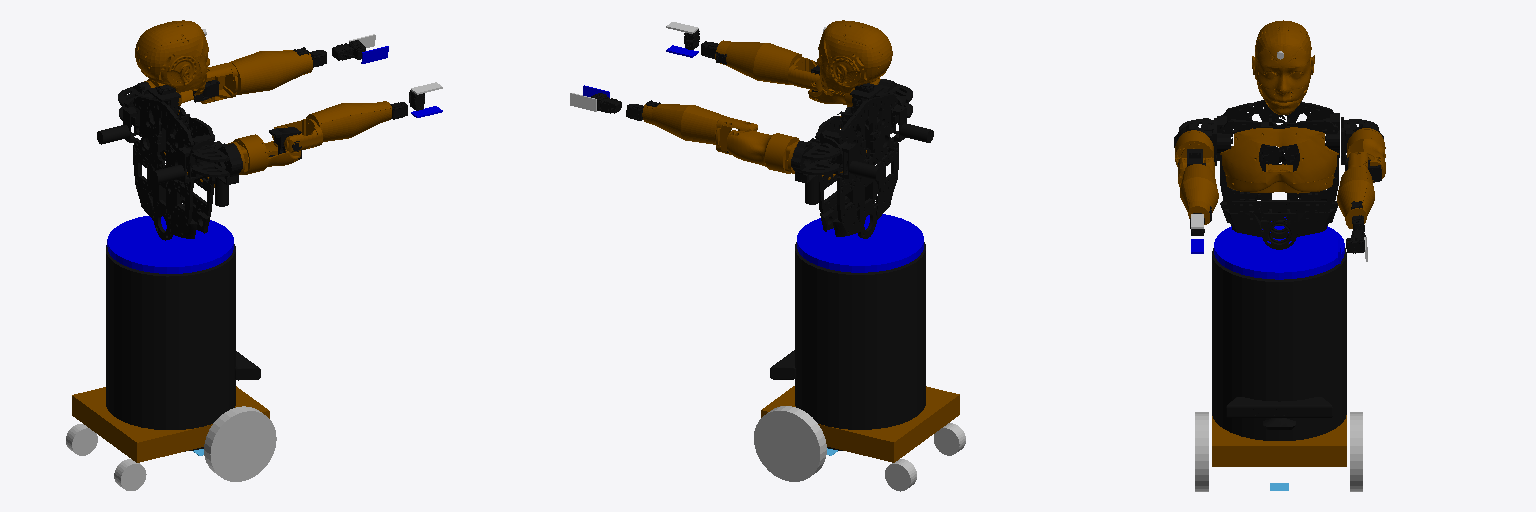
--- What the picture shows (computed from the rendered views, not written in the file) ---
The picture shows the robot from 3 angles, left to right: view 1: azimuth 30°, elevation 25°; view 2: azimuth 150°, elevation 25°; view 3: azimuth 270°, elevation 25°; orthographic projection.
Model robbie with 57 links and 56 joints (18 revolute, 38 fixed), rooted at base_footprint, posed joints at zero except 1 at the middle of their limits (left_arm_rotate_joint = 1.67).
Visible links, largest first — view 1: deck_link, upper_torso, pan_link, base_link, head_link, left_wheel, left_forearm_link, right_forearm_link, right_shoulder_lift, right_shoulder_rotate, left_shoulder_tilt, right_shoulder_tilt (+5 smaller); view 2: deck_link, upper_torso, pan_link, base_link, head_link, right_wheel, right_forearm_link, left_forearm_link, left_shoulder_rotate, left_shoulder_lift, left_shoulder_tilt, right_shoulder_tilt (+7 smaller); view 3: deck_link, upper_torso, upper_chest, pan_link, head_link, base_link, kinect_link, right_forearm_link, left_forearm_link, left_wheel, left_shoulder_rotate, right_wheel (+3 smaller).
Link boxes in pixels (bbox=[...]): deck_link: bbox=[106, 244, 235, 451]; upper_torso: bbox=[133, 96, 214, 240]; pan_link: bbox=[107, 216, 233, 273]; base_link: bbox=[72, 386, 269, 462]; head_link: bbox=[135, 20, 209, 95]; left_wheel: bbox=[204, 406, 276, 481]; left_forearm_link: bbox=[231, 50, 312, 94]; right_forearm_link: bbox=[306, 101, 391, 141]; right_shoulder_lift: bbox=[189, 139, 242, 206]; right_shoulder_rotate: bbox=[227, 134, 300, 174]; left_shoulder_tilt: bbox=[97, 94, 156, 144]; right_shoulder_tilt: bbox=[151, 134, 213, 183]; deck_link: bbox=[795, 242, 925, 450]; upper_torso: bbox=[815, 94, 898, 238]; pan_link: bbox=[797, 214, 923, 272]; base_link: bbox=[761, 386, 959, 462]; head_link: bbox=[817, 20, 892, 95]; right_wheel: bbox=[754, 406, 826, 481]; right_forearm_link: bbox=[715, 40, 802, 84]; left_forearm_link: bbox=[642, 104, 723, 144]; left_shoulder_rotate: bbox=[727, 130, 799, 173]; left_shoulder_lift: bbox=[791, 132, 842, 204]; left_shoulder_tilt: bbox=[820, 130, 882, 180]; right_shoulder_tilt: bbox=[873, 92, 933, 142]; deck_link: bbox=[1212, 248, 1346, 440]; upper_torso: bbox=[1220, 100, 1338, 249]; upper_chest: bbox=[1220, 127, 1338, 193]; pan_link: bbox=[1214, 217, 1344, 279]; head_link: bbox=[1252, 20, 1314, 114]; base_link: bbox=[1212, 415, 1346, 466]; kinect_link: bbox=[1226, 397, 1332, 429]; right_forearm_link: bbox=[1180, 164, 1218, 224]; left_forearm_link: bbox=[1337, 167, 1374, 228]; left_wheel: bbox=[1195, 412, 1208, 491]; left_shoulder_rotate: bbox=[1347, 128, 1385, 182]; right_wheel: bbox=[1350, 412, 1362, 491].
Size in the robot's own frame: 1 by 0.5498 by 1.28 metres.
25 mesh visuals loaded from 15 distinct referenced files (13 binary STL); not drawn: 12 (reference not matched to a file when rendering).

robot.urdf — robbie:
<?xml version="1.0" ?>
<!-- =================================================================================== -->
<!-- |    This document was autogenerated by xacro from rob_inmoov.xacro               | -->
<!-- |    EDITING THIS FILE BY HAND IS NOT RECOMMENDED                                 | -->
<!-- =================================================================================== -->
<!-- XML namespaces -->
<robot name="robbie" xmlns:controller="http://playerstage.sourceforge.net/gazebo/xmlschema/#controller" xmlns:interface="http://playerstage.sourceforge.net/gazebo/xmlschema/#interface" xmlns:sensor="http://playerstage.sourceforge.net/gazebo/xmlschema/#sensor" xmlns:xacro="http://ros.org/wiki/xacro">
  <link name="base_link">
    <visual>
      <origin rpy="0 0 0" xyz="0 0 .135"/>
      <geometry>
        <box size="0.41 0.35 0.06"/>
      </geometry>
      <material name="gold">
        <color rgba="0.5 0.3 0 1.0"/>
      </material>
    </visual>
    <collision>
      <origin rpy="0 0 0" xyz="0 0 .135"/>
      <geometry>
        <box size="0.41 0.35 0.06"/>
      </geometry>
    </collision>
  </link>
  <gazebo reference="base_link">
    <material>Gazebo/FlatBlack</material>
    <selfCollide>false</selfCollide>
    <turnGravityOff>true</turnGravityOff>
  </gazebo>
  <link name="base_footprint">
    <visual>
      <origin rpy="0 0 0" xyz="0 0 0"/>
      <geometry>
        <box size="0.05 0.05 0.001"/>
      </geometry>
      <material name="TransparentGreen"/>
    </visual>
  </link>
  <link name="left_wheel">
    <visual>
      <origin rpy="1.57 0 0" xyz="0 0 0"/>
      <geometry>
        <cylinder length="0.035" radius="0.1025"/>
      </geometry>
      <material name="grey1">
        <color rgba="0.75 0.75 0.75 1.0"/>
      </material>
    </visual>
    <collision>
      <origin rpy="1.57 0 0" xyz="0 0 0"/>
      <geometry>
        <cylinder length="0.035" radius="0.1025"/>
      </geometry>
    </collision>
    <inertial>
      <mass value="0.1"/>
      <inertia ixx="0.001" ixy="0.0" ixz="0.0" iyy="0.001" iyz="0.0" izz="0.001"/>
    </inertial>
  </link>
  <gazebo reference="left_wheel">
    <material>Gazebo/Grey</material>
    <selfCollide>false</selfCollide>
    <turnGravityOff>true</turnGravityOff>
  </gazebo>
  <link name="right_wheel">
    <visual>
      <origin rpy="1.57 0 0" xyz="0 0 0"/>
      <geometry>
        <cylinder length="0.035" radius="0.1025"/>
      </geometry>
      <material name="grey1">
        <color rgba="0.75 0.75 0.75 1.0"/>
      </material>
    </visual>
    <collision>
      <origin rpy="1.57 0 0" xyz="0 0 0"/>
      <geometry>
        <cylinder length="0.035" radius="0.1025"/>
      </geometry>
    </collision>
    <inertial>
      <mass value="0.1"/>
      <inertia ixx="0.001" ixy="0.0" ixz="0.0" iyy="0.001" iyz="0.0" izz="0.001"/>
    </inertial>
  </link>
  <gazebo reference="right_wheel">
    <material>Gazebo/Grey</material>
    <selfCollide>false</selfCollide>
    <turnGravityOff>true</turnGravityOff>
  </gazebo>
  <link name="castor_wheel_l">
    <visual>
      <origin rpy="1.57 0 0" xyz="0 0 0"/>
      <geometry>
        <cylinder length="0.035" radius="0.04"/>
      </geometry>
      <material name="grey1">
        <color rgba="0.75 0.75 0.75 1.0"/>
      </material>
    </visual>
    <collision>
      <origin rpy="1.57 0 0" xyz="0 0 0"/>
      <geometry>
        <cylinder length="0.035" radius="0.04"/>
      </geometry>
    </collision>
    <inertial>
      <mass value="0.1"/>
      <inertia ixx="0.001" ixy="0.0" ixz="0.0" iyy="0.001" iyz="0.0" izz="0.001"/>
    </inertial>
  </link>
  <gazebo reference="castor_wheel_l">
    <material>Gazebo/Grey</material>
    <selfCollide>false</selfCollide>
    <turnGravityOff>true</turnGravityOff>
  </gazebo>
  <link name="castor_wheel_r">
    <visual>
      <origin rpy="1.57 0 0" xyz="0 0 0"/>
      <geometry>
        <cylinder length="0.035" radius="0.04"/>
      </geometry>
      <material name="grey1">
        <color rgba="0.75 0.75 0.75 1.0"/>
      </material>
    </visual>
    <collision>
      <origin rpy="1.57 0 0" xyz="0 0 0"/>
      <geometry>
        <cylinder length="0.035" radius="0.04"/>
      </geometry>
    </collision>
    <inertial>
      <mass value="0.1"/>
      <inertia ixx="0.001" ixy="0.0" ixz="0.0" iyy="0.001" iyz="0.0" izz="0.001"/>
    </inertial>
  </link>
  <gazebo reference="castor_wheel_r">
    <material>Gazebo/Grey</material>
    <selfCollide>false</selfCollide>
    <turnGravityOff>true</turnGravityOff>
  </gazebo>
  <link name="deck_link">
    <visual>
      <origin rpy="0 0 0" xyz="0.1 0 0"/>
      <geometry>
        <cylinder length="0.52" radius="0.175"/>
      </geometry>
      <material name="black">
        <color rgba="0.1 0.1 0.1 1.0"/>
      </material>
    </visual>
    <collision>
      <origin rpy="0 0 0" xyz="0.1 0 0"/>
      <geometry>
        <cylinder length="0.52" radius="0.175"/>
      </geometry>
    </collision>
    <inertial>
      <mass value="0.2"/>
      <inertia ixx="0.001" ixy="0.0" ixz="0.0" iyy="0.001" iyz="0.0" izz="0.001"/>
    </inertial>
  </link>
  <gazebo reference="deck_link">
    <material>Gazebo/grey</material>
    <selfCollide>false</selfCollide>
    <turnGravityOff>true</turnGravityOff>
  </gazebo>
  <link name="pan_link">
    <visual>
      <origin rpy="0 0 0" xyz="0 0 0"/>
      <geometry>
        <cylinder length="0.02" radius="0.17"/>
      </geometry>
      <material name="blue1">
        <color rgba="0 0 0.9 1.0"/>
      </material>
    </visual>
    <collision>
      <origin rpy="0 0 0" xyz="0 0 0"/>
      <geometry>
        <cylinder length="0.02" radius="0.17"/>
      </geometry>
    </collision>
    <inertial>
      <mass value="0.2"/>
      <inertia ixx="0.001" ixy="0.0" ixz="0.0" iyy="0.001" iyz="0.0" izz="0.001"/>
    </inertial>
  </link>
  <gazebo reference="pan_link">
    <material>Gazebo/grey</material>
    <selfCollide>false</selfCollide>
    <turnGravityOff>true</turnGravityOff>
  </gazebo>
  <!-- ##############################   upper torso   ##################333333-->
  <link name="upper_torso">
    <visual>
      <geometry>
        <mesh filename="package://robbie_description/meshes/chest.stl" scale="0.001 0.001 0.001"/>
      </geometry>
      <material name="black">
        <color rgba="0.1 0.1 0.1 1.0"/>
      </material>
      <origin rpy="0 0 -1.57" xyz="0 0 0"/>
    </visual>
  </link>
  <link name="upper_chest">
    <visual>
      <geometry>
        <mesh filename="package://robbie_description/meshes/chest_cover.stl" scale="0.001 0.001 0.001"/>
      </geometry>
      <material name="gold">
        <color rgba="0.5 0.3 0 1.0"/>
      </material>
      <origin rpy="0 0 1.57" xyz="0 0 0"/>
    </visual>
  </link>
  <!-- ##############################   right arm ##################333333-->
  <link name="right_shoulder_tilt">
    <visual>
      <geometry>
        <mesh filename="package://robbie_description/meshes/right_shoulder_tilt_assy.stl" scale="0.001 0.001 0.001"/>
      </geometry>
      <material name="black">
        <color rgba="0.1 0.1 0.1 1.0"/>
      </material>
      <origin rpy="0 0 1.57" xyz="0 -0.05 -0.05"/>
    </visual>
  </link>
  <link name="right_shoulder_lift">
    <visual>
      <geometry>
        <mesh filename="package://robbie_description/meshes/right_shoulder_assy.stl" scale="0.001 0.001 0.001"/>
      </geometry>
      <material name="black">
        <color rgba="0.1 0.1 0.1 1.0"/>
      </material>
      <origin rpy="0 0 1.57" xyz="-0.025 0 0.01"/>
    </visual>
  </link>
  <link name="right_elbow_link">
    <visual>
      <geometry>
        <mesh filename="package://robbie_description/meshes/gearbox.stl" scale="0.001 0.001 0.001"/>
      </geometry>
      <material name="black">
        <color rgba="0.1 0.1 0.1 1.0"/>
      </material>
      <origin rpy="0 1.57 0" xyz="0 0 0"/>
    </visual>
  </link>
  <link name="right_shoulder_rotate">
    <visual>
      <geometry>
        <mesh filename="package://robbie_description/meshes/right_upper_arm.stl" scale="0.001 0.001 0.001"/>
      </geometry>
      <material name="gold">
        <color rgba="0.5 0.3 0 1.0"/>
      </material>
      <origin rpy="0 3.14 0" xyz="0 0 0"/>
    </visual>
  </link>
  <link name="right_elbow">
    <visual>
      <geometry>
        <mesh filename="package://robbie_description/meshes/elbow_pivot.stl" scale="0.001 0.001 0.001"/>
      </geometry>
      <material name="gold">
        <color rgba="0.5 0.3 0 1.0"/>
      </material>
      <origin rpy="3.14 0 0" xyz="0.025 -0.05 0.03"/>
    </visual>
  </link>
  <link name="right_forearm_link">
    <visual>
      <geometry>
        <mesh filename="package://robbie_description/meshes/fore_arm.stl" scale="0.001 0.001 0.001"/>
      </geometry>
      <material name="gold">
        <color rgba="0.5 0.3 0 1.0"/>
      </material>
      <origin rpy="0 -1.57 0" xyz="0 0 0"/>
    </visual>
  </link>
  <!-- wrist_pan_ joint-->
  <link name="wrist_pan_servo">
    <visual>
      <origin rpy="0 0 0" xyz="0 0 0"/>
      <geometry>
        <mesh filename="package://robbie/meshes/ax12_box2.stl" scale="0.001 0.001 0.001"/>
      </geometry>
      <material name="ax12_color">
        <color rgba="0.1 0.1 0.1 1.0"/>
      </material>
    </visual>
    <collision>
      <origin rpy="0 0 0" xyz="0 0 0"/>
      <geometry>
        <!--<box size="0.032 0.038 0.05" />-->
        <mesh filename="package://robbie/meshes/ax12_box2.stl" scale="0.001 0.001 0.001"/>
      </geometry>
    </collision>
    <inertial>
      <mass value="0.055"/>
      <inertia ixx="0.001" ixy="0.0" ixz="0.0" iyy="0.001" iyz="0.0" izz="0.001"/>
    </inertial>
  </link>
  <gazebo reference="wrist_pan_servo">
    <material>Gazebo/FlatBlack</material>
    <selfCollide>false</selfCollide>
    <turnGravityOff>true</turnGravityOff>
  </gazebo>
  <link name="wrist_pan_servo_bracket_f3">
    <visual>
      <origin rpy="1.57 0 0" xyz="0 0.005 0"/>
      <geometry>
        <mesh filename="package://robbie/meshes/F3.stl" scale="0.001 0.001 0.001"/>
      </geometry>
      <material name="grey1">
        <color rgba="0.75 0.75 0.75 1.0"/>
      </material>
      <material name="bracket_color">
        <color rgba="0.9 0.9 0.9 1.0"/>
      </material>
    </visual>
    <collision>
      <origin rpy="1.57 0 0" xyz="0 0.005 0"/>
      <geometry>
        <mesh filename="package://robbie/meshes/F3.stl" scale="0.001 0.001 0.001"/>
      </geometry>
    </collision>
    <inertial>
      <mass value="0.01"/>
      <inertia ixx="0.001" ixy="0.0" ixz="0.0" iyy="0.001" iyz="0.0" izz="0.001"/>
    </inertial>
  </link>
  <gazebo reference="wrist_pan_servo_bracket_f3">
    <material>Gazebo/WhiteEmissive</material>
    <selfCollide>false</selfCollide>
    <turnGravityOff>true</turnGravityOff>
  </gazebo>
  <!-- <xacro:F3_bracket name="wrist_pan_servo_bracket2_f3" xyz="0 0 0" rpy="0 -1.57 0" />-->
  <!-- wrist_tilt joint-->
  <link name="wrist_tilt_servo">
    <visual>
      <origin rpy="-1.57 0 0" xyz="-0.04 0.05 0"/>
      <geometry>
        <mesh filename="package://robbie/meshes/ax12_box2.stl" scale="0.001 0.001 0.001"/>
      </geometry>
      <material name="ax12_color">
        <color rgba="0.1 0.1 0.1 1.0"/>
      </material>
    </visual>
    <collision>
      <origin rpy="-1.57 0 0" xyz="-0.04 0.05 0"/>
      <geometry>
        <!--<box size="0.032 0.038 0.05" />-->
        <mesh filename="package://robbie/meshes/ax12_box2.stl" scale="0.001 0.001 0.001"/>
      </geometry>
    </collision>
    <inertial>
      <mass value="0.055"/>
      <inertia ixx="0.001" ixy="0.0" ixz="0.0" iyy="0.001" iyz="0.0" izz="0.001"/>
    </inertial>
  </link>
  <gazebo reference="wrist_tilt_servo">
    <material>Gazebo/FlatBlack</material>
    <selfCollide>false</selfCollide>
    <turnGravityOff>true</turnGravityOff>
  </gazebo>
  <link name="wrist_tilt_bracket_f2">
    <visual>
      <origin rpy="0 1.57 0" xyz="0 0 0"/>
      <geometry>
        <mesh filename="package://robbie/meshes/F2.stl" scale="0.001 0.001 0.001"/>
      </geometry>
      <material name="bracket_color">
        <color rgba="0.9 0.9 0.9 1.0"/>
      </material>
    </visual>
    <collision>
      <origin rpy="0 1.57 0" xyz="0 0 0"/>
      <geometry>
        <mesh filename="package://robbie/meshes/F2.stl" scale="0.001 0.001 0.001"/>
      </geometry>
    </collision>
    <inertial>
      <mass value="0.02"/>
      <inertia ixx="0.001" ixy="0.0" ixz="0.0" iyy="0.001" iyz="0.0" izz="0.001"/>
    </inertial>
  </link>
  <gazebo reference="wrist_tilt_bracket_f2">
    <material>Gazebo/WhiteEmissive</material>
    <selfCollide>false</selfCollide>
    <turnGravityOff>true</turnGravityOff>
  </gazebo>
  <!--here-->
  <link name="gripper_bracket_f3">
    <visual>
      <origin rpy="1.57 1.57 0" xyz="0 0 0"/>
      <geometry>
        <mesh filename="package://robbie/meshes/F3.stl" scale="0.001 0.001 0.001"/>
      </geometry>
      <material name="grey1">
        <color rgba="0.75 0.75 0.75 1.0"/>
      </material>
      <material name="bracket_color">
        <color rgba="0.9 0.9 0.9 1.0"/>
      </material>
    </visual>
    <collision>
      <origin rpy="1.57 1.57 0" xyz="0 0 0"/>
      <geometry>
        <mesh filename="package://robbie/meshes/F3.stl" scale="0.001 0.001 0.001"/>
      </geometry>
    </collision>
    <inertial>
      <mass value="0.01"/>
      <inertia ixx="0.001" ixy="0.0" ixz="0.0" iyy="0.001" iyz="0.0" izz="0.001"/>
    </inertial>
  </link>
  <gazebo reference="gripper_bracket_f3">
    <material>Gazebo/WhiteEmissive</material>
    <selfCollide>false</selfCollide>
    <turnGravityOff>true</turnGravityOff>
  </gazebo>
  <!-- Gripper_joint-->
  <link name="gripper_servo">
    <visual>
      <origin rpy="1.57 0 0" xyz="0 0 0"/>
      <geometry>
        <mesh filename="package://robbie/meshes/ax12_box2.stl" scale="0.001 0.001 0.001"/>
      </geometry>
      <material name="ax12_color">
        <color rgba="0.1 0.1 0.1 1.0"/>
      </material>
    </visual>
    <collision>
      <origin rpy="1.57 0 0" xyz="0 0 0"/>
      <geometry>
        <!--<box size="0.032 0.038 0.05" />-->
        <mesh filename="package://robbie/meshes/ax12_box2.stl" scale="0.001 0.001 0.001"/>
      </geometry>
    </collision>
    <inertial>
      <mass value="0.055"/>
      <inertia ixx="0.001" ixy="0.0" ixz="0.0" iyy="0.001" iyz="0.0" izz="0.001"/>
    </inertial>
  </link>
  <gazebo reference="gripper_servo">
    <material>Gazebo/FlatBlack</material>
    <selfCollide>false</selfCollide>
    <turnGravityOff>true</turnGravityOff>
  </gazebo>
  <link name="gripper_bracket_f2">
    <visual>
      <origin rpy="0 0 1.57" xyz="0 0 0"/>
      <geometry>
        <mesh filename="package://robbie/meshes/F2.stl" scale="0.001 0.001 0.001"/>
      </geometry>
      <material name="bracket_color">
        <color rgba="0.9 0.9 0.9 1.0"/>
      </material>
    </visual>
    <collision>
      <origin rpy="0 0 1.57" xyz="0 0 0"/>
      <geometry>
        <mesh filename="package://robbie/meshes/F2.stl" scale="0.001 0.001 0.001"/>
      </geometry>
    </collision>
    <inertial>
      <mass value="0.02"/>
      <inertia ixx="0.001" ixy="0.0" ixz="0.0" iyy="0.001" iyz="0.0" izz="0.001"/>
    </inertial>
  </link>
  <gazebo reference="gripper_bracket_f2">
    <material>Gazebo/WhiteEmissive</material>
    <selfCollide>false</selfCollide>
    <turnGravityOff>true</turnGravityOff>
  </gazebo>
  <link name="right_finger_link">
    <visual>
      <origin rpy="1.57 0 1.57" xyz="0 0 0"/>
      <geometry>
        <box size="-0.08 0.005 0.035"/>
      </geometry>
      <material name="blue1">
        <color rgba="0 0 0.9 1.0"/>
      </material>
    </visual>
    <collision>
      <origin rpy="1.57 0 1.57" xyz="0 0 0"/>
      <geometry>
        <box size="-0.08 0.005 0.035"/>
      </geometry>
    </collision>
  </link>
  <gazebo reference="right_finger_link">
    <material>Gazebo/FlatBlack</material>
    <selfCollide>false</selfCollide>
    <turnGravityOff>true</turnGravityOff>
  </gazebo>
  <link name="left_finger_link">
    <visual>
      <origin rpy="1.57 0 1.57" xyz="0 0 0"/>
      <geometry>
        <box size="0.08 0.005 0.035"/>
      </geometry>
      <material name="grey3">
        <color rgba="0.8 0.8 0.8 1.0"/>
      </material>
    </visual>
    <collision>
      <origin rpy="1.57 0 1.57" xyz="0 0 0"/>
      <geometry>
        <box size="0.08 0.005 0.035"/>
      </geometry>
    </collision>
  </link>
  <gazebo reference="left_finger_link">
    <material>Gazebo/FlatBlack</material>
    <selfCollide>false</selfCollide>
    <turnGravityOff>true</turnGravityOff>
  </gazebo>
  <!-- ##############################   left arm ##################333333-->
  <link name="left_shoulder_tilt">
    <visual>
      <geometry>
        <mesh filename="package://robbie_description/meshes/left_shoulder_tilt_assy.stl" scale="0.001 0.001 0.001"/>
      </geometry>
      <material name="black">
        <color rgba="0.1 0.1 0.1 1.0"/>
      </material>
      <origin rpy="0 0 1.57" xyz="0 0.0 -0.0"/>
    </visual>
  </link>
  <link name="left_shoulder_lift">
    <visual>
      <geometry>
        <mesh filename="package://robbie_description/meshes/left_shoulder_assy.stl" scale="0.001 0.001 0.001"/>
      </geometry>
      <material name="black">
        <color rgba="0.1 0.1 0.1 1.0"/>
      </material>
      <origin rpy="0 0 1.57" xyz="0 0 0"/>
    </visual>
  </link>
  <link name="left_shoulder_rotate">
    <visual>
      <geometry>
        <mesh filename="package://robbie_description/meshes/right_upper_arm.stl" scale="0.001 0.001 0.001"/>
      </geometry>
      <material name="gold">
        <color rgba="0.5 0.3 0 1.0"/>
      </material>
      <origin rpy="0 3.14 0" xyz="0 0 0"/>
    </visual>
  </link>
  <link name="left_elbow_link">
    <visual>
      <geometry>
        <mesh filename="package://robbie_description/meshes/gearbox.stl" scale="0.001 0.001 0.001"/>
      </geometry>
      <material name="black">
        <color rgba="0.1 0.1 0.1 1.0"/>
      </material>
      <origin rpy="0 1.57 0" xyz="0 0 0"/>
    </visual>
  </link>
  <link name="left_elbow">
    <visual>
      <geometry>
        <mesh filename="package://robbie_description/meshes/elbow_pivot.stl" scale="0.001 0.001 0.001"/>
      </geometry>
      <material name="gold">
        <color rgba="0.5 0.3 0 1.0"/>
      </material>
      <origin rpy="3.14 0 0" xyz="0.025 -0.05 0.03"/>
    </visual>
  </link>
  <link name="left_forearm_link">
    <visual>
      <geometry>
        <mesh filename="package://robbie_description/meshes/fore_arm.stl" scale="0.001 0.001 0.001"/>
      </geometry>
      <material name="gold">
        <color rgba="0.5 0.3 0 1.0"/>
      </material>
      <origin rpy="0 -1.57 0" xyz="0 0 0"/>
    </visual>
  </link>
  <!-- left_wrist_pan_ joint-->
  <link name="left_wrist_pan_servo">
    <visual>
      <origin rpy="0 0 0" xyz="0 0 0"/>
      <geometry>
        <mesh filename="package://robbie/meshes/ax12_box2.stl" scale="0.001 0.001 0.001"/>
      </geometry>
      <material name="ax12_color">
        <color rgba="0.1 0.1 0.1 1.0"/>
      </material>
    </visual>
    <collision>
      <origin rpy="0 0 0" xyz="0 0 0"/>
      <geometry>
        <!--<box size="0.032 0.038 0.05" />-->
        <mesh filename="package://robbie/meshes/ax12_box2.stl" scale="0.001 0.001 0.001"/>
      </geometry>
    </collision>
    <inertial>
      <mass value="0.055"/>
      <inertia ixx="0.001" ixy="0.0" ixz="0.0" iyy="0.001" iyz="0.0" izz="0.001"/>
    </inertial>
  </link>
  <gazebo reference="left_wrist_pan_servo">
    <material>Gazebo/FlatBlack</material>
    <selfCollide>false</selfCollide>
    <turnGravityOff>true</turnGravityOff>
  </gazebo>
  <link name="left_wrist_pan_servo_bracket_f3">
    <visual>
      <origin rpy="1.57 0 0" xyz="0 0.005 0"/>
      <geometry>
        <mesh filename="package://robbie/meshes/F3.stl" scale="0.001 0.001 0.001"/>
      </geometry>
      <material name="grey1">
        <color rgba="0.75 0.75 0.75 1.0"/>
      </material>
      <material name="bracket_color">
        <color rgba="0.9 0.9 0.9 1.0"/>
      </material>
    </visual>
    <collision>
      <origin rpy="1.57 0 0" xyz="0 0.005 0"/>
      <geometry>
        <mesh filename="package://robbie/meshes/F3.stl" scale="0.001 0.001 0.001"/>
      </geometry>
    </collision>
    <inertial>
      <mass value="0.01"/>
      <inertia ixx="0.001" ixy="0.0" ixz="0.0" iyy="0.001" iyz="0.0" izz="0.001"/>
    </inertial>
  </link>
  <gazebo reference="left_wrist_pan_servo_bracket_f3">
    <material>Gazebo/WhiteEmissive</material>
    <selfCollide>false</selfCollide>
    <turnGravityOff>true</turnGravityOff>
  </gazebo>
  <!-- <xacro:F3_bracket name="left_wrist_pan_servo_bracket2_f3" xyz="0 0 0" rpy="0 -1.57 0" />-->
  <!-- left_wrist_yaw joint-->
  <link name="left_wrist_yaw_servo">
    <visual>
      <origin rpy="-1.57 0 0" xyz="-0.04 0.05 0"/>
      <geometry>
        <mesh filename="package://robbie/meshes/ax12_box2.stl" scale="0.001 0.001 0.001"/>
      </geometry>
      <material name="ax12_color">
        <color rgba="0.1 0.1 0.1 1.0"/>
      </material>
    </visual>
    <collision>
      <origin rpy="-1.57 0 0" xyz="-0.04 0.05 0"/>
      <geometry>
        <!--<box size="0.032 0.038 0.05" />-->
        <mesh filename="package://robbie/meshes/ax12_box2.stl" scale="0.001 0.001 0.001"/>
      </geometry>
    </collision>
    <inertial>
      <mass value="0.055"/>
      <inertia ixx="0.001" ixy="0.0" ixz="0.0" iyy="0.001" iyz="0.0" izz="0.001"/>
    </inertial>
  </link>
  <gazebo reference="left_wrist_yaw_servo">
    <material>Gazebo/FlatBlack</material>
    <selfCollide>false</selfCollide>
    <turnGravityOff>true</turnGravityOff>
  </gazebo>
  <link name="left_wrist_yaw_bracket_f2">
    <visual>
      <origin rpy="-1.57 0 0" xyz="0 0 0"/>
      <geometry>
        <mesh filename="package://robbie/meshes/F2.stl" scale="0.001 0.001 0.001"/>
      </geometry>
      <material name="bracket_color">
        <color rgba="0.9 0.9 0.9 1.0"/>
      </material>
    </visual>
    <collision>
      <origin rpy="-1.57 0 0" xyz="0 0 0"/>
      <geometry>
        <mesh filename="package://robbie/meshes/F2.stl" scale="0.001 0.001 0.001"/>
      </geometry>
    </collision>
    <inertial>
      <mass value="0.02"/>
      <inertia ixx="0.001" ixy="0.0" ixz="0.0" iyy="0.001" iyz="0.0" izz="0.001"/>
    </inertial>
  </link>
  <gazebo reference="left_wrist_yaw_bracket_f2">
    <material>Gazebo/WhiteEmissive</material>
    <selfCollide>false</selfCollide>
    <turnGravityOff>true</turnGravityOff>
  </gazebo>
  <!-- left_wrist_tilt joint-->
  <link name="left_wrist_tilt_servo">
    <visual>
      <origin rpy="1.57 1.57 0" xyz="0 0 0"/>
      <geometry>
        <mesh filename="package://robbie/meshes/ax12_box2.stl" scale="0.001 0.001 0.001"/>
      </geometry>
      <material name="ax12_color">
        <color rgba="0.1 0.1 0.1 1.0"/>
      </material>
    </visual>
    <collision>
      <origin rpy="1.57 1.57 0" xyz="0 0 0"/>
      <geometry>
        <!--<box size="0.032 0.038 0.05" />-->
        <mesh filename="package://robbie/meshes/ax12_box2.stl" scale="0.001 0.001 0.001"/>
      </geometry>
    </collision>
    <inertial>
      <mass value="0.055"/>
      <inertia ixx="0.001" ixy="0.0" ixz="0.0" iyy="0.001" iyz="0.0" izz="0.001"/>
    </inertial>
  </link>
  <gazebo reference="left_wrist_tilt_servo">
    <material>Gazebo/FlatBlack</material>
    <selfCollide>false</selfCollide>
    <turnGravityOff>true</turnGravityOff>
  </gazebo>
  <link name="left_wrist_tilt_bracket_f2">
    <visual>
      <origin rpy="1.57 1.57 0" xyz="0 0 0"/>
      <geometry>
        <mesh filename="package://robbie/meshes/F2.stl" scale="0.001 0.001 0.001"/>
      </geometry>
      <material name="bracket_color">
        <color rgba="0.9 0.9 0.9 1.0"/>
      </material>
    </visual>
    <collision>
      <origin rpy="1.57 1.57 0" xyz="0 0 0"/>
      <geometry>
        <mesh filename="package://robbie/meshes/F2.stl" scale="0.001 0.001 0.001"/>
      </geometry>
    </collision>
    <inertial>
      <mass value="0.02"/>
      <inertia ixx="0.001" ixy="0.0" ixz="0.0" iyy="0.001" iyz="0.0" izz="0.001"/>
    </inertial>
  </link>
  <gazebo reference="left_wrist_tilt_bracket_f2">
    <material>Gazebo/WhiteEmissive</material>
    <selfCollide>false</selfCollide>
    <turnGravityOff>true</turnGravityOff>
  </gazebo>
  <link name="left_gripper_bracket_f3">
    <visual>
      <origin rpy="1.57 1.57 0" xyz="0 0 0"/>
      <geometry>
        <mesh filename="package://robbie/meshes/F3.stl" scale="0.001 0.001 0.001"/>
      </geometry>
      <material name="grey1">
        <color rgba="0.75 0.75 0.75 1.0"/>
      </material>
      <material name="bracket_color">
        <color rgba="0.9 0.9 0.9 1.0"/>
      </material>
    </visual>
    <collision>
      <origin rpy="1.57 1.57 0" xyz="0 0 0"/>
      <geometry>
        <mesh filename="package://robbie/meshes/F3.stl" scale="0.001 0.001 0.001"/>
      </geometry>
    </collision>
    <inertial>
      <mass value="0.01"/>
      <inertia ixx="0.001" ixy="0.0" ixz="0.0" iyy="0.001" iyz="0.0" izz="0.001"/>
    </inertial>
  </link>
  <gazebo reference="left_gripper_bracket_f3">
    <material>Gazebo/WhiteEmissive</material>
    <selfCollide>false</selfCollide>
    <turnGravityOff>true</turnGravityOff>
  </gazebo>
  <!-- left_Gripper_joint-->
  <link name="left_gripper_servo">
    <visual>
      <origin rpy="0 0 -1.57" xyz="0 0 0"/>
      <geometry>
        <mesh filename="package://robbie/meshes/ax12_box2.stl" scale="0.001 0.001 0.001"/>
      </geometry>
      <material name="ax12_color">
        <color rgba="0.1 0.1 0.1 1.0"/>
      </material>
    </visual>
    <collision>
      <origin rpy="0 0 -1.57" xyz="0 0 0"/>
      <geometry>
        <!--<box size="0.032 0.038 0.05" />-->
        <mesh filename="package://robbie/meshes/ax12_box2.stl" scale="0.001 0.001 0.001"/>
      </geometry>
    </collision>
    <inertial>
      <mass value="0.055"/>
      <inertia ixx="0.001" ixy="0.0" ixz="0.0" iyy="0.001" iyz="0.0" izz="0.001"/>
    </inertial>
  </link>
  <gazebo reference="left_gripper_servo">
    <material>Gazebo/FlatBlack</material>
    <selfCollide>false</selfCollide>
    <turnGravityOff>true</turnGravityOff>
  </gazebo>
  <link name="left_gripper_bracket_f2">
    <visual>
      <origin rpy="0 0 1.57" xyz="0 0 0"/>
      <geometry>
        <mesh filename="package://robbie/meshes/F2.stl" scale="0.001 0.001 0.001"/>
      </geometry>
      <material name="bracket_color">
        <color rgba="0.9 0.9 0.9 1.0"/>
      </material>
    </visual>
    <collision>
      <origin rpy="0 0 1.57" xyz="0 0 0"/>
      <geometry>
        <mesh filename="package://robbie/meshes/F2.stl" scale="0.001 0.001 0.001"/>
      </geometry>
    </collision>
    <inertial>
      <mass value="0.02"/>
      <inertia ixx="0.001" ixy="0.0" ixz="0.0" iyy="0.001" iyz="0.0" izz="0.001"/>
    </inertial>
  </link>
  <gazebo reference="left_gripper_bracket_f2">
    <material>Gazebo/WhiteEmissive</material>
    <selfCollide>false</selfCollide>
    <turnGravityOff>true</turnGravityOff>
  </gazebo>
  <link name="left_right_finger_link">
    <visual>
      <origin rpy="1.57 0 1.57" xyz="0 0 0"/>
      <geometry>
        <box size="-0.08 0.005 0.035"/>
      </geometry>
      <material name="blue1">
        <color rgba="0 0 0.9 1.0"/>
      </material>
    </visual>
    <collision>
      <origin rpy="1.57 0 1.57" xyz="0 0 0"/>
      <geometry>
        <box size="-0.08 0.005 0.035"/>
      </geometry>
    </collision>
  </link>
  <gazebo reference="left_right_finger_link">
    <material>Gazebo/FlatBlack</material>
    <selfCollide>false</selfCollide>
    <turnGravityOff>true</turnGravityOff>
  </gazebo>
  <link name="left_left_finger_link">
    <visual>
      <origin rpy="1.57 0 1.57" xyz="0 0 0"/>
      <geometry>
        <box size="0.08 0.005 0.035"/>
      </geometry>
      <material name="grey3">
        <color rgba="0.8 0.8 0.8 1.0"/>
      </material>
    </visual>
    <collision>
      <origin rpy="1.57 0 1.57" xyz="0 0 0"/>
      <geometry>
        <box size="0.08 0.005 0.035"/>
      </geometry>
    </collision>
  </link>
  <gazebo reference="left_left_finger_link">
    <material>Gazebo/FlatBlack</material>
    <selfCollide>false</selfCollide>
    <turnGravityOff>true</turnGravityOff>
  </gazebo>
  <!-- head details-->
  <link name="head_tilt_bracket">
    <visual>
      <origin rpy="0 3.1415 0" xyz="0 0 0"/>
      <geometry>
        <mesh filename="package://robbie/meshes/F2.stl" scale="0.001 0.001 0.001"/>
      </geometry>
      <material name="bracket_color">
        <color rgba="0.9 0.9 0.9 1.0"/>
      </material>
    </visual>
    <collision>
      <origin rpy="0 3.1415 0" xyz="0 0 0"/>
      <geometry>
        <mesh filename="package://robbie/meshes/F2.stl" scale="0.001 0.001 0.001"/>
      </geometry>
    </collision>
    <inertial>
      <mass value="0.02"/>
      <inertia ixx="0.001" ixy="0.0" ixz="0.0" iyy="0.001" iyz="0.0" izz="0.001"/>
    </inertial>
  </link>
  <gazebo reference="head_tilt_bracket">
    <material>Gazebo/WhiteEmissive</material>
    <selfCollide>false</selfCollide>
    <turnGravityOff>true</turnGravityOff>
  </gazebo>
  <link name="head_tilt_link">
    <visual>
      <origin rpy="3.1415 0 0" xyz="0 0 0"/>
      <geometry>
        <mesh filename="package://robbie/meshes/ax12_box2.stl" scale="0.001 0.001 0.001"/>
      </geometry>
      <material name="ax12_color">
        <color rgba="0.1 0.1 0.1 1.0"/>
      </material>
    </visual>
    <collision>
      <origin rpy="3.1415 0 0" xyz="0 0 0"/>
      <geometry>
        <!--<box size="0.032 0.038 0.05" />-->
        <mesh filename="package://robbie/meshes/ax12_box2.stl" scale="0.001 0.001 0.001"/>
      </geometry>
    </collision>
    <inertial>
      <mass value="0.055"/>
      <inertia ixx="0.001" ixy="0.0" ixz="0.0" iyy="0.001" iyz="0.0" izz="0.001"/>
    </inertial>
  </link>
  <gazebo reference="head_tilt_link">
    <material>Gazebo/FlatBlack</material>
    <selfCollide>false</selfCollide>
    <turnGravityOff>true</turnGravityOff>
  </gazebo>
  <link name="head_pan_bracket">
    <visual>
      <origin rpy="0 0 0" xyz="0 0 0"/>
      <geometry>
        <mesh filename="package://robbie/meshes/F3.stl" scale="0.001 0.001 0.001"/>
      </geometry>
      <material name="grey1">
        <color rgba="0.75 0.75 0.75 1.0"/>
      </material>
      <material name="bracket_color">
        <color rgba="0.9 0.9 0.9 1.0"/>
      </material>
    </visual>
    <collision>
      <origin rpy="0 0 0" xyz="0 0 0"/>
      <geometry>
        <mesh filename="package://robbie/meshes/F3.stl" scale="0.001 0.001 0.001"/>
      </geometry>
    </collision>
    <inertial>
      <mass value="0.01"/>
      <inertia ixx="0.001" ixy="0.0" ixz="0.0" iyy="0.001" iyz="0.0" izz="0.001"/>
    </inertial>
  </link>
  <gazebo reference="head_pan_bracket">
    <material>Gazebo/WhiteEmissive</material>
    <selfCollide>false</selfCollide>
    <turnGravityOff>true</turnGravityOff>
  </gazebo>
  <link name="head_pan_link">
    <visual>
      <origin rpy=" 1.57 0 1.57" xyz="0 0 0"/>
      <geometry>
        <mesh filename="package://robbie/meshes/ax12_box2.stl" scale="0.001 0.001 0.001"/>
      </geometry>
      <material name="ax12_color">
        <color rgba="0.1 0.1 0.1 1.0"/>
      </material>
    </visual>
    <collision>
      <origin rpy=" 1.57 0 1.57" xyz="0 0 0"/>
      <geometry>
        <!--<box size="0.032 0.038 0.05" />-->
        <mesh filename="package://robbie/meshes/ax12_box2.stl" scale="0.001 0.001 0.001"/>
      </geometry>
    </collision>
    <inertial>
      <mass value="0.055"/>
      <inertia ixx="0.001" ixy="0.0" ixz="0.0" iyy="0.001" iyz="0.0" izz="0.001"/>
    </inertial>
  </link>
  <gazebo reference="head_pan_link">
    <material>Gazebo/FlatBlack</material>
    <selfCollide>false</selfCollide>
    <turnGravityOff>true</turnGravityOff>
  </gazebo>
  <link name="neck_link">
    <visual>
      <origin rpy="1.57 0 -1.570" xyz="0 0 0"/>
      <geometry>
        <mesh filename="package://robbie/meshes/F3.stl" scale="0.001 0.001 0.001"/>
      </geometry>
      <material name="grey1">
        <color rgba="0.75 0.75 0.75 1.0"/>
      </material>
      <material name="bracket_color">
        <color rgba="0.9 0.9 0.9 1.0"/>
      </material>
    </visual>
    <collision>
      <origin rpy="1.57 0 -1.570" xyz="0 0 0"/>
      <geometry>
        <mesh filename="package://robbie/meshes/F3.stl" scale="0.001 0.001 0.001"/>
      </geometry>
    </collision>
    <inertial>
      <mass value="0.01"/>
      <inertia ixx="0.001" ixy="0.0" ixz="0.0" iyy="0.001" iyz="0.0" izz="0.001"/>
    </inertial>
  </link>
  <gazebo reference="neck_link">
    <material>Gazebo/WhiteEmissive</material>
    <selfCollide>false</selfCollide>
    <turnGravityOff>true</turnGravityOff>
  </gazebo>
  <link name="head_base_link">
    <visual>
      <origin rpy="0 0 0" xyz="0 0 0"/>
      <geometry>
        <box size="0.06 0.08 0.005"/>
      </geometry>
      <material name="black">
        <color rgba="0.1 0.1 0.1 1.0"/>
      </material>
    </visual>
    <collision>
      <origin rpy="0 0 0" xyz="0 0 0"/>
      <geometry>
        <box size="0.06 0.08 0.005"/>
      </geometry>
    </collision>
  </link>
  <gazebo reference="head_base_link">
    <material>Gazebo/FlatBlack</material>
    <selfCollide>false</selfCollide>
    <turnGravityOff>true</turnGravityOff>
  </gazebo>
  <link name="head_link">
    <visual>
      <geometry>
        <mesh filename="package://robbie_description/meshes/head.stl" scale="0.001 0.001 0.001"/>
      </geometry>
      <material name="gold">
        <color rgba="0.5 0.3 0 1.0"/>
      </material>
      <origin rpy="1.57 0 1.57" xyz="0 0 0"/>
    </visual>
  </link>
  <link name="head_link_fake">
    <inertial>
      <mass value="0.0001"/>
      <origin xyz="0 0 0"/>
      <inertia ixx="0.0001" ixy="0.0" ixz="0.0" iyy="0.0001" iyz="0.0" izz="0.0001"/>
    </inertial>
  </link>
  <link name="kinect_link">
    <inertial>
      <mass value="1.0"/>
      <origin xyz="0 0 0"/>
      <inertia ixx="1.0" ixy="0.0" ixz="0.0" iyy="1.0" iyz="0.0" izz="1.0"/>
    </inertial>
    <visual>
      <origin rpy="0 0 0" xyz=" 0 0 0 "/>
      <geometry>
        <mesh filename="package://robbie_description/meshes/kinect.stl" scale="0.001 0.001 0.001"/>
      </geometry>
      <material name="ax12_color">
        <color rgba="0.1 0.1 0.1 1.0"/>
      </material>
    </visual>
    <collision>
      <origin rpy="0 0 0" xyz="0 0 0"/>
      <geometry>
        <mesh filename="package://robbie_description/meshes/kinect.stl" scale="0.001 0.001 0.001"/>
      </geometry>
    </collision>
  </link>
  <link name="camera_link">
    <visual>
      <origin rpy="0 1.57 0" xyz="0 0 0"/>
      <geometry>
        <cylinder length="0.035" radius="0.01"/>
      </geometry>
      <material name="grey1">
        <color rgba="0.75 0.75 0.75 1.0"/>
      </material>
    </visual>
    <collision>
      <origin rpy="0 1.57 0" xyz="0 0 0"/>
      <geometry>
        <cylinder length="0.035" radius="0.01"/>
      </geometry>
    </collision>
    <inertial>
      <mass value="0.1"/>
      <inertia ixx="0.001" ixy="0.0" ixz="0.0" iyy="0.001" iyz="0.0" izz="0.001"/>
    </inertial>
  </link>
  <gazebo reference="camera_link">
    <material>Gazebo/Grey</material>
    <selfCollide>false</selfCollide>
    <turnGravityOff>true</turnGravityOff>
  </gazebo>
  <!-- virtal joints-->
  <link name="right_gripper_link">
    <visual>
      <origin rpy="0 0 0" xyz="0.05 0 0"/>
      <geometry>
        <box size="0.001 0.001 0.001"/>
      </geometry>
    </visual>
    <collision>
      <origin rpy="0 0 0" xyz="0.05 0 0"/>
      <geometry>
        <box size="0.001 0.001 0.001"/>
      </geometry>
    </collision>
  </link>
  <link name="left_gripper_link">
    <visual>
      <origin rpy="0 0 0" xyz="-0.05 0 0"/>
      <geometry>
        <box size="0.001 0.001 0.001"/>
      </geometry>
    </visual>
    <collision>
      <origin rpy="0 0 0" xyz="-0.05 0 0"/>
      <geometry>
        <box size="0.001 0.001 0.001"/>
      </geometry>
    </collision>
  </link>
  <!-- ##############################   joints ##################333333-->
  <joint name="base_footprint_joint" type="fixed">
    <parent link="base_footprint"/>
    <child link="base_link"/>
    <origin rpy="0 0 0" xyz="-0.1 0 0"/>
  </joint>
  <joint name="base_link_joint" type="fixed">
    <parent link="base_link"/>
    <child link="deck_link"/>
    <origin rpy="0 0 0" xyz="-0.1 0 .36"/>
  </joint>
  <joint name="left_wheel_joint" type="fixed">
    <parent link="base_link"/>
    <child link="left_wheel"/>
    <origin rpy="0 0 0" xyz="0.1 -0.2 0.1"/>
  </joint>
  <joint name="right_wheel_joint" type="fixed">
    <parent link="base_link"/>
    <child link="right_wheel"/>
    <origin rpy="0 0 0" xyz="0.1 0.2 0.1"/>
  </joint>
  <joint name="castor_wheel_joint_l" type="fixed">
    <parent link="base_link"/>
    <child link="castor_wheel_l"/>
    <origin rpy="0 0 0" xyz="-0.20 -0.13 0.05"/>
  </joint>
  <joint name="castor_wheel_joint_r" type="fixed">
    <parent link="base_link"/>
    <child link="castor_wheel_r"/>
    <origin rpy="0 0 0" xyz="-0.20 0.13 0.05"/>
  </joint>
  <!--#################  Upper torso#############################-->
  <joint name="pan_joint" type="revolute">
    <parent link="deck_link"/>
    <child link="pan_link"/>
    <origin rpy="0 0 0" xyz="0.1 0 0.275"/>
    <axis xyz="0 0 1"/>
    <limit effort="10" lower="-1" upper="1" velocity="0"/>
  </joint>
  <joint name="torso_link" type="fixed">
    <parent link="pan_link"/>
    <child link="upper_torso"/>
    <origin rpy="0 0 0" xyz="0.05 0 0.26"/>
  </joint>
  <joint name="chest_link" type="fixed">
    <parent link="upper_torso"/>
    <child link="upper_chest"/>
    <origin rpy="0 0 0" xyz="0.02 0 0.03"/>
  </joint>
  <joint name="right_arm_tilt_joint" type="revolute">
    <parent link="upper_torso"/>
    <child link="right_shoulder_tilt"/>
    <origin rpy="0 0 0" xyz="-0.045 -0.145 0.105"/>
    <axis xyz="1 0 0"/>
    <limit effort="10" lower="-1.34" upper="0.1" velocity="0"/>
  </joint>
  <joint name="right_arm_lift_joint" type="revolute">
    <parent link="right_shoulder_tilt"/>
    <child link="right_shoulder_lift"/>
    <origin rpy="0 -1.57 0" xyz="-0.0 -0.077 -0.04"/>
    <axis xyz="0 1 0"/>
    <limit effort="10" lower="-1.57" upper="1.57" velocity="0"/>
  </joint>
  <joint name="right_arm_rotate_joint" type="revolute">
    <parent link="right_shoulder_lift"/>
    <child link="right_shoulder_rotate"/>
    <origin rpy="0 0 0" xyz="0 0 -0.065"/>
    <axis xyz="0 0 -1"/>
    <limit effort="10" lower="-3.14" upper="0.2" velocity="0"/>
  </joint>
  <joint name="right_elbow_link" type="fixed">
    <parent link="right_shoulder_rotate"/>
    <child link="right_elbow_link"/>
    <origin rpy="0 0 0" xyz="0.01 0 -0.17"/>
  </joint>
  <joint name="right_arm_elbow_joint" type="revolute">
    <parent link="right_elbow_link"/>
    <child link="right_elbow"/>
    <origin rpy="0 -1.57 0" xyz="0.01 0.01 0.0"/>
    <axis xyz="0 1 0"/>
    <limit effort="10" lower="-2.20" upper="0.1" velocity="0"/>
  </joint>
  <joint name="right_arm_forearm_link" type="fixed">
    <parent link="right_elbow"/>
    <child link="right_forearm_link"/>
    <origin rpy="1.57 0 0" xyz="-0.08 -0.0 -0.0"/>
  </joint>
  <!--right_arm_wrist_pan_joint-->
  <joint name="right_arm_wrist_pan_bracket" type="fixed">
    <parent link="right_forearm_link"/>
    <child link="wrist_pan_servo"/>
    <origin rpy="0 0 1.57" xyz="-0.21 0.0 0.0"/>
  </joint>
  <joint name="right_arm_wrist_pan_joint" type="revolute">
    <parent link="wrist_pan_servo"/>
    <child link="wrist_pan_servo_bracket_f3"/>
    <origin rpy="0 1.57 0" xyz="0. 0.015 0.0"/>
    <axis xyz="0 1 0"/>
    <limit effort="10" lower="-2.61" upper="2.61" velocity="0"/>
    <dynamics damping="0.0"/>
  </joint>
  <joint name="right_arm_wrist_tilt_bracket" type="fixed">
    <parent link="wrist_pan_servo_bracket_f3"/>
    <child link="wrist_tilt_servo"/>
    <origin rpy="0 0 0" xyz="0.04 0 0.0"/>
    <axis xyz="1 0 0"/>
  </joint>
  <!--wrist_tilt_joint-->
  <joint name="right_arm_wrist_yaw_joint" type="revolute">
    <parent link="wrist_tilt_servo"/>
    <child link="wrist_tilt_bracket_f2"/>
    <origin rpy="-1.57 0 1.57" xyz="-0.04 0.05 0"/>
    <axis xyz="0 1 0"/>
    <limit effort="10" lower="-1.57" upper="1.57" velocity="0"/>
    <dynamics damping="0.0"/>
  </joint>
  <joint name="right_arm_gripper_bracket" type="fixed">
    <parent link="wrist_tilt_bracket_f2"/>
    <child link="gripper_bracket_f3"/>
    <origin rpy="1.57 1.57 0" xyz="0.025 0.025 0.0"/>
    <!--now-->
  </joint>
  <joint name="right_arm_gripper_servo" type="fixed">
    <parent link="gripper_bracket_f3"/>
    <child link="gripper_servo"/>
    <origin rpy="-1.57 0 1.57" xyz="0.0 0.02 0.02"/>
  </joint>
  <joint name="right_gripper_joint" type="fixed">
    <origin rpy="-1.570795 0 1.570795" xyz="0 0.06 0.01"/>
    <parent link="gripper_bracket_f3"/>
    <child link="right_gripper_link"/>
  </joint>
  <!-- gripper_joint-->
  <joint name="right_arm_gripper_joint" type="revolute">
    <parent link="gripper_servo"/>
    <child link="gripper_bracket_f2"/>
    <origin rpy="0 1.57 -1.57" xyz="0 0.0 0.0"/>
    <axis xyz="1 0 0"/>
    <limit effort="10" lower="-0.36" upper="0.28" velocity="0"/>
    <dynamics damping="0.0"/>
  </joint>
  <joint name="right_arm_finger_link_l" type="fixed">
    <parent link="gripper_servo"/>
    <child link="left_finger_link"/>
    <origin rpy="0 1.57 -1.57" xyz="0.03 0.04 0.0"/>
  </joint>
  <!-- moving finger   ############-->
  <joint name="right_arm_finger_link_r" type="fixed">
    <parent link="gripper_bracket_f2"/>
    <child link="right_finger_link"/>
    <origin rpy="0 0 0" xyz="0 0.03 0.03"/>
  </joint>
  <!--##########################        left arm             #############################-->
  <joint name="left_arm_tilt_joint" type="revolute">
    <parent link="upper_torso"/>
    <child link="left_shoulder_tilt"/>
    <origin rpy="0 0 0" xyz="-0.045 0.145 0.105"/>
    <axis xyz="-1 0 0"/>
    <limit effort="10" lower="-1.34" upper="0.1" velocity="0"/>
  </joint>
  <joint name="left_arm_lift_joint" type="revolute">
    <parent link="left_shoulder_tilt"/>
    <child link="left_shoulder_lift"/>
    <origin rpy="0 -1.57 0" xyz="0 0.02 -0.04"/>
    <axis xyz="0 1 0"/>
    <limit effort="10" lower="-1.57" upper="1.57" velocity="0"/>
  </joint>
  <joint name="left_arm_rotate_joint" type="revolute">
    <parent link="left_shoulder_lift"/>
    <child link="left_shoulder_rotate"/>
    <origin rpy="0 0 0" xyz="0 0.06 -0.055"/>
    <axis xyz="0 0 -1"/>
    <limit effort="10" lower="0.2" upper="3.14" velocity="0"/>
  </joint>
  <joint name="left_elbow_link" type="fixed">
    <parent link="left_shoulder_rotate"/>
    <child link="left_elbow_link"/>
    <origin rpy="0 0 0" xyz="0.01 0 -0.17"/>
  </joint>
  <joint name="left_arm_elbow_joint" type="revolute">
    <parent link="left_elbow_link"/>
    <child link="left_elbow"/>
    <origin rpy="0 -1.57 0" xyz="0.01 0.01 0.0"/>
    <axis xyz="0 1 0"/>
    <limit effort="10" lower="-2.20" upper="0.17" velocity="0"/>
  </joint>
  <joint name="left_arm_forearm_link" type="fixed">
    <parent link="left_elbow"/>
    <child link="left_forearm_link"/>
    <origin rpy="1.57 0 0" xyz="-0.08 -0.0 -0.0"/>
  </joint>
  <!--left_arm_wrist_pan_joint-->
  <joint name="left_arm_wrist_pan_bracket" type="fixed">
    <parent link="left_forearm_link"/>
    <child link="left_wrist_pan_servo"/>
    <origin rpy="0 0 1.57" xyz="-0.21 0.0 0.0"/>
    <!--now-->
  </joint>
  <joint name="left_arm_wrist_pan_joint" type="revolute">
    <!--revolute-->
    <parent link="left_wrist_pan_servo"/>
    <child link="left_wrist_pan_servo_bracket_f3"/>
    <origin rpy="0 0 0" xyz="0. 0.015 0.0"/>
    <axis xyz="0 1 0"/>
    <limit effort="10" lower="-2.61" upper="2.61" velocity="0"/>
    <dynamics damping="0.0"/>
  </joint>
  <joint name="left_arm_wrist_tilt_bracket" type="fixed">
    <parent link="left_wrist_pan_servo_bracket_f3"/>
    <child link="left_wrist_yaw_servo"/>
    <origin rpy="0 0 0" xyz="0.04 0 0.0"/>
    <axis xyz="1 0 0"/>
  </joint>
  <!--wrist_yaw_joint-->
  <joint name="left_arm_wrist_yaw_joint" type="revolute">
    <!--revolute-->
    <parent link="left_wrist_yaw_servo"/>
    <child link="left_wrist_yaw_bracket_f2"/>
    <origin rpy="0 0 0" xyz="-0.04 0.05 0"/>
    <axis xyz="0 0 -1"/>
    <limit effort="10" lower="-1.57" upper="1.57" velocity="0"/>
    <dynamics damping="0.0"/>
  </joint>
  <joint name="left_arm_wrist_yaw_bracket" type="fixed">
    <parent link="left_wrist_yaw_bracket_f2"/>
    <child link="left_wrist_tilt_bracket_f2"/>
    <origin rpy="0 0 0" xyz="-0.0 0.052 0.0"/>
    <axis xyz="1 0 0"/>
    <limit effort="10" lower="-1.57" upper="1.57" velocity="0"/>
    <dynamics damping="0.0"/>
  </joint>
  <!--wrist_tilt_joint-->
  <joint name="left_arm_wrist_tilt_joint" type="revolute">
    <!--revolute-->
    <parent link="left_wrist_tilt_bracket_f2"/>
    <child link="left_wrist_tilt_servo"/>
    <origin rpy="0 0 0" xyz="-0 -0.0 0"/>
    <axis xyz="1 0 0"/>
    <limit effort="10" lower="-1.57" upper="1.57" velocity="0"/>
    <dynamics damping="0.0"/>
  </joint>
  <joint name="left_arm_gripper_bracket" type="fixed">
    <parent link="left_wrist_tilt_servo"/>
    <child link="left_gripper_bracket_f3"/>
    <origin rpy="0 1.57 0" xyz="0.0 0.035 0.0"/>
  </joint>
  <joint name="left_arm_gripper_servo" type="fixed">
    <parent link="left_gripper_bracket_f3"/>
    <child link="left_gripper_servo"/>
    <origin rpy="0 3.14 0" xyz="0.0 0.02 -0.02"/>
  </joint>
  <joint name="left_gripper_joint" type="fixed">
    <origin rpy="1.570795 0 1.570795" xyz="0 0.06 -0.01"/>
    <parent link="left_gripper_bracket_f3"/>
    <child link="left_gripper_link"/>
  </joint>
  <!-- left gripper_joint-->
  <joint name="left_arm_gripper_joint" type="revolute">
    <!--revolute-->
    <parent link="left_gripper_servo"/>
    <child link="left_gripper_bracket_f2"/>
    <origin rpy="0 0 0" xyz="0 0.0 0.0"/>
    <axis xyz="1 0 0"/>
    <limit effort="10" lower="-1.0" upper="0.3" velocity="0"/>
    <dynamics damping="0.0"/>
  </joint>
  <joint name="left_arm_finger_link_l" type="fixed">
    <parent link="left_gripper_servo"/>
    <child link="left_left_finger_link"/>
    <origin rpy="0 0 0" xyz="0. 0.03 -0.04"/>
  </joint>
  <joint name="left_arm_finger_link_r" type="fixed">
    <parent link="left_gripper_bracket_f2"/>
    <child link="left_right_finger_link"/>
    <origin rpy="0 0 0" xyz="0 0.03 0.03"/>
  </joint>
  <!-- #####################################Head joints#########################################-->
  <joint name="head_tilt_servo" type="fixed">
    <parent link="upper_torso"/>
    <child link="head_tilt_bracket"/>
    <origin rpy="0 0 0" xyz="-0.05 0. 0.15"/>
  </joint>
  <!-- Head tilt joint-->
  <joint name="head_tilt_mod_joint" type="revolute">
    <parent link="head_tilt_bracket"/>
    <child link="head_tilt_link"/>
    <origin rpy="0 0 0" xyz="0 0 0.0"/>
    <axis xyz="0 1 0"/>
    <limit effort="10" lower="-2.6" upper="2.6" velocity="0"/>
    <dynamics damping="0.0"/>
  </joint>
  <!-- Head tilt joint fake-->
  <joint name="head_tilt_joint" type="fixed">
    <parent link="head_tilt_bracket"/>
    <child link="head_link_fake"/>
    <origin rpy="0 0 0" xyz="0 0 0.0"/>
    <axis xyz="0 1 0"/>
    <limit effort="10" lower="-2.6" upper="2.6" velocity="0"/>
    <dynamics damping="0.0"/>
  </joint>
  <joint name="head_pan_servo" type="fixed">
    <parent link="head_tilt_link"/>
    <child link="head_pan_bracket"/>
    <origin rpy="0 0 0" xyz="-0.0 0 0.04"/>
  </joint>
  <!-- head_pan_joint-->
  <joint name="head_pan_joint" type="revolute">
    <parent link="head_pan_bracket"/>
    <child link="head_pan_link"/>
    <origin rpy="0 0 0" xyz="0.0 0 0.02"/>
    <origin rpy="0 0 0" xyz="0 0 0.0"/>
    <axis xyz="0 0 1"/>
    <limit effort="10" lower="-2" upper="2" velocity="0"/>
    <dynamics damping="0.0"/>
  </joint>
  <joint name="head_neck_link" type="fixed">
    <parent link="head_pan_link"/>
    <child link="neck_link"/>
    <origin rpy="0 0 0" xyz="-0.04 0 0.0"/>
  </joint>
  <joint name="neck_joint" type="fixed">
    <parent link="neck_link"/>
    <child link="head_base_link"/>
    <origin rpy="0 0 0" xyz="0.02 0 0.0"/>
  </joint>
  <joint name="head_joint" type="fixed">
    <parent link="head_base_link"/>
    <child link="head_link"/>
    <origin rpy="0 0 0" xyz="-0.02 -0.097 -0.45"/>
  </joint>
  <joint name="camera_link" type="fixed">
    <parent link="head_link"/>
    <child link="camera_link"/>
    <origin rpy="0 0 0" xyz="0.13 0.1 0.6"/>
  </joint>
  <joint name="kinect_joint" type="fixed">
    <parent link="base_link"/>
    <child link="kinect_link"/>
    <origin rpy="0 0 0" xyz="0.2 0 0.26"/>
  </joint>
  <joint name="kinect_depth_joint" type="fixed">
    <origin rpy="0 0 0" xyz="0 0.018 0"/>
    <parent link="kinect_link"/>
    <child link="kinect_depth_frame"/>
  </joint>
  <link name="kinect_depth_frame">
    <inertial>
      <mass value="0.0001"/>
      <origin xyz="0 0 0"/>
      <inertia ixx="0.0001" ixy="0.0" ixz="0.0" iyy="0.0001" iyz="0.0" izz="0.0001"/>
    </inertial>
  </link>
  <joint name="kinect_depth_optical_joint" type="fixed">
    <origin rpy="-1.570795 0 -1.570795" xyz="0 0 0"/>
    <parent link="kinect_link"/>
    <child link="kinect_depth_optical_frame"/>
  </joint>
  <link name="kinect_depth_optical_frame">
    <inertial>
      <mass value="0.0001"/>
      <origin xyz="0 0 0"/>
      <inertia ixx="0.0001" ixy="0.0" ixz="0.0" iyy="0.0001" iyz="0.0" izz="0.0001"/>
    </inertial>
  </link>
  <joint name="kinect_rgb_optical_joint" type="fixed">
    <origin rpy="-1.570795 0 -1.570795" xyz="0 0 0"/>
    <parent link="kinect_depth_optical_frame"/>
    <child link="kinect_rgb_optical_frame"/>
  </joint>
  <link name="kinect_rgb_optical_frame">
    <inertial>
      <mass value="0.001"/>
      <origin xyz="0 0 0"/>
      <inertia ixx="0.0001" ixy="0.0" ixz="0.0" iyy="0.0001" iyz="0.0" izz="0.0001"/>
    </inertial>
  </link>
  <gazebo reference="robbie">
  	</gazebo>
</robot>
